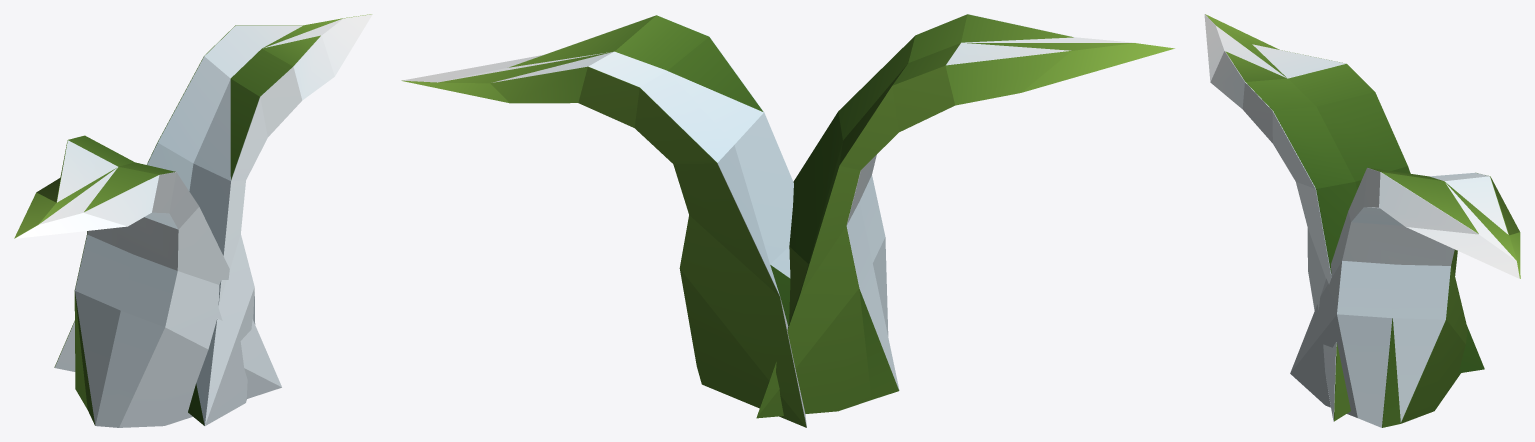
File: herbe1.fbx
The picture shows the model from 3 angles, left to right: view 1: azimuth 30°, elevation 25°; view 2: azimuth 150°, elevation 25°; view 3: azimuth 270°, elevation 25°; orthographic projection. The views are drawn at different scales.
Parts seen in each view (by area): view 1: Cube.020, Cube.019; view 2: Cube.019, Cube.020; view 3: Cube.020, Cube.019.
Part boxes in pixels (x1=…): Cube.020: x1=15, y1=14, x2=372, y2=427; Cube.019: x1=14, y1=14, x2=371, y2=425; Cube.019: x1=401, y1=14, x2=1174, y2=427; Cube.020: x1=402, y1=14, x2=1174, y2=427; Cube.020: x1=1204, y1=14, x2=1519, y2=427; Cube.019: x1=1205, y1=14, x2=1520, y2=427.
Size of the model in its own units: 0.8164 by 0.4405 by 0.4623.
2 materials, 2 textured.
